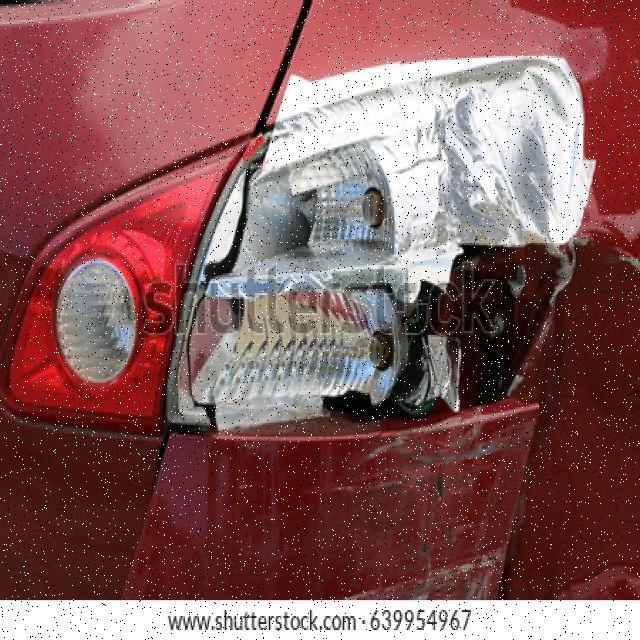Taillight-Damage: (172, 36, 606, 488)
rear-bumper-dent: (0, 368, 544, 605)
